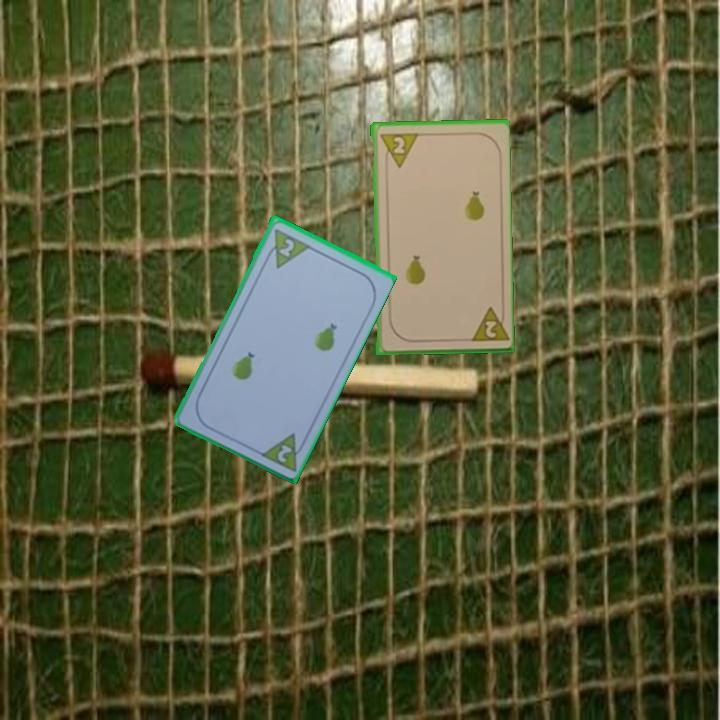2p: (261, 224, 311, 271), (465, 303, 509, 345), (376, 129, 419, 170), (273, 440, 295, 465)
